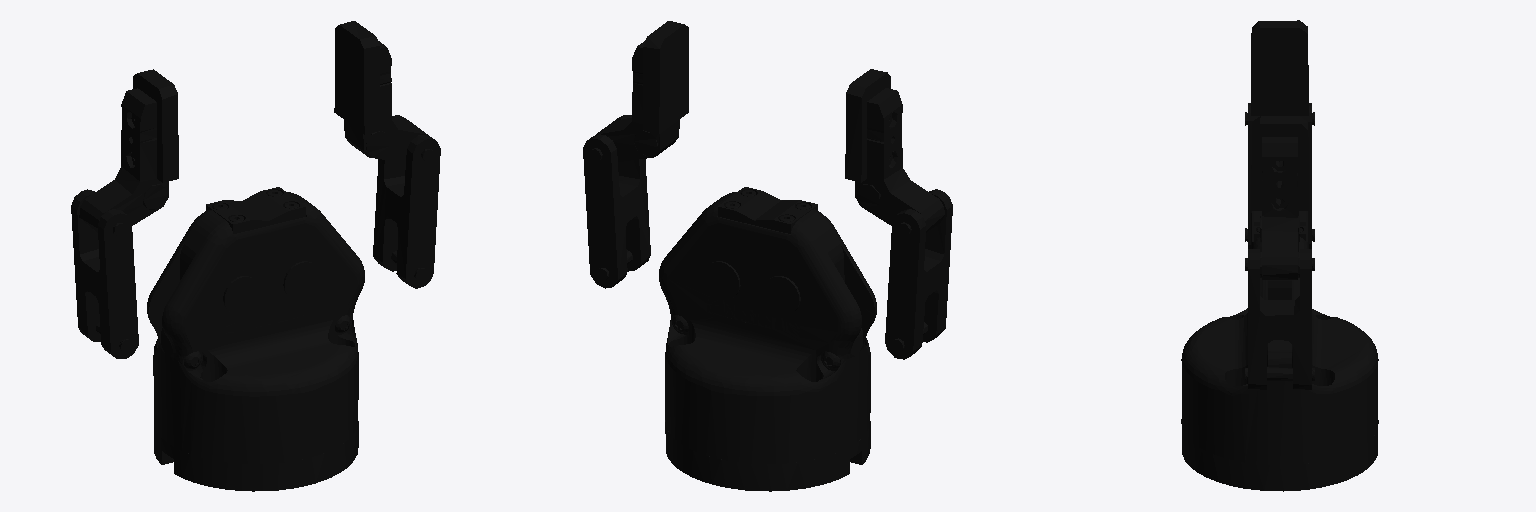
The robot description file, URDF, robot "robotiq_arg85_description":
<robot
  name="robotiq_arg85_description">
  <link
    name="robotiq_85_base_link">
    <inertial>
      <origin
        xyz="0.00021987 -2.3546E-10 0.030163"
        rpy="0 0 0" />
      <mass
        value="0.30915" />
      <inertia
        ixx="0.00028972"
        ixy="-5.7879E-10"
        ixz="-1.8543E-06"
        iyy="0.00030737"
        iyz="1.682E-12"
        izz="0.00019914" />
    </inertial>
    <visual>
      <origin
        xyz="0 0 0"
        rpy="0 0 0" />
      <geometry>
        <mesh
          filename="package://robotiq/robotiq_85_base_link_fine.stl" />
      </geometry>
      <material
        name="">
        <color
          rgba="0.1 0.1 0.1 1" />
      </material>
    </visual>
    <collision>
      <origin
        xyz="0 0 0.0475"
        rpy="0 0 0" />
      <geometry>
        <!-- <mesh
          filename="package://robotiq/robotiq_85_base_link_coarse.stl" /> -->
        <box size="0.07 0.07 0.09"/>
        <!-- <cylinder radius="0.04" length="0.095"/> -->
      </geometry>
    </collision>
  </link>
  <link
    name="left_outer_knuckle">
    <inertial>
      <origin
        xyz="0.0178331863169983 3.68915177224286E-11 0.0021442477325704"
        rpy="0 0 0" />
      <mass
        value="0.00684838849434396" />
      <inertia
        ixx="2.66832029033166E-07"
        ixy="1.66142314639824E-15"
        ixz="1.45945633322873E-07"
        iyy="1.3889233257419E-06"
        iyz="2.82951161241588E-15"
        izz="1.26603336914415E-06" />
    </inertial>
    <visual>
      <origin
        xyz="0 0 0"
        rpy="0 0 0" />
      <geometry>
        <mesh
          filename="package://robotiq/outer_knuckle_fine.stl" />
      </geometry>
      <material
        name="">
        <color
          rgba="0.1 0.1 0.1 1" />
      </material>
    </visual>
    <!-- <collision>
      <origin
        xyz="0 0 0"
        rpy="0 0 0" />
      <geometry>
        <mesh
          filename="package://robotiq/outer_knuckle_coarse.stl" />
      </geometry>
    </collision> -->
  </link>
  <joint
    name="finger_joint"
    type="revolute">
    <origin
      xyz="0.0306011444260539 0 0.0627920162695395"
      rpy="0 0 0" />
    <parent
      link="robotiq_85_base_link" />
    <child
      link="left_outer_knuckle" />
    <axis
      xyz="0 -1 0" />
    <limit
	  lower="0"
      upper="0.725"
      velocity="2.0"
      effort="1000" />
  </joint>
  <link
    name="left_outer_finger">
    <inertial>
      <origin
        xyz="0.00131451599174296 2.88942057994543E-15 0.0215404163180413"
        rpy="0 0 0" />
      <mass
        value="0.0273093985570947" />
      <inertia
        ixx="8.51629628283022E-06"
        ixy="2.58174336207405E-19"
        ixz="3.83829504344079E-07"
        iyy="6.9133328065108E-06"
        iyz="-7.58589926143789E-19"
        izz="2.25006832221981E-06" />
    </inertial>
    <visual>
      <origin
        xyz="0 0 0"
        rpy="0 0 0" />
      <geometry>
        <mesh
          filename="package://robotiq/outer_finger_fine.stl" />
      </geometry>
      <material
        name="">
        <color
          rgba="0.1 0.1 0.1 1" />
      </material>
    </visual>
    <collision>
      <origin
        xyz="0 0 0.025"
        rpy="0 0 0" />
      <geometry>
        <!-- <mesh
          filename="package://robotiq/outer_finger_coarse.stl" /> -->
          <box size="0.01 0.03 0.06"/>
      </geometry>
    </collision>
  </link>
  <joint
    name="left_outer_finger_joint"
    type="fixed">
    <origin
      xyz="0.0316910442266543 0 -0.00193396375724605"
      rpy="0 0 0" />
    <parent
      link="left_outer_knuckle" />
    <child
      link="left_outer_finger" />
    <axis
      xyz="0 -1 0" />
  </joint>
  <link
    name="left_inner_knuckle">
    <inertial>
      <origin
        xyz="0.017097546626628 -3.93808524389535E-10 0.0224918438201868"
        rpy="0 0 0" />
      <mass
        value="0.0110930853895903" />
      <inertia
        ixx="4.23392770691541E-06"
        ixy="5.748978936968E-15"
        ixz="1.78855677119788E-06"
        iyy="3.96548790524392E-06"
        iyz="1.05464666369669E-14"
        izz="3.24068002883007E-06" />
    </inertial>
    <visual>
      <origin
        xyz="0 0 0"
        rpy="0 0 0" />
      <geometry>
        <mesh
          filename="package://robotiq/inner_knuckle_fine.stl" />
      </geometry>
      <material
        name="">
        <color
          rgba="0.1 0.1 0.1 1" />
      </material>
    </visual>
    <!-- <collision>
      <origin
        xyz="0 0 0"
        rpy="0 0 0" />
      <geometry>
        <mesh
          filename="package://robotiq/inner_knuckle_coarse.stl" />
      </geometry>
    </collision> -->
  </link>
  <joint
    name="left_inner_knuckle_joint"
    type="revolute">
    <origin
      xyz="0.0127000000001501 0 0.0693074999999639"
      rpy="0 0 0" />
    <parent
      link="robotiq_85_base_link" />
    <child
      link="left_inner_knuckle" />
    <axis
      xyz="0 -1 0" />
    <limit
      lower="0"
      upper="0.8757"
      velocity="2.0"
      effort="1000" />
    <mimic
      joint="finger_joint"
      multiplier="1"
      offset="0" />
  </joint>
  <link
    name="left_inner_finger">
    <inertial>
      <origin
        xyz="0.0060275613594574 -6.29183141465421E-15 0.00669925693133241"
        rpy="0 0 0" />
      <mass
        value="0.00724255346165745" />
      <inertia
        ixx="1.47824274053603E-06"
        ixy="-3.94884463570303E-19"
        ixz="-3.45268847648622E-07"
        iyy="1.70064480838395E-06"
        iyz="3.5059838910097E-19"
        izz="4.77151336838364E-07" />
    </inertial>
    <visual>
      <origin
        xyz="0 0 0"
        rpy="0 0 0" />
      <geometry>
        <mesh
          filename="package://robotiq/inner_finger_fine.stl" />
      </geometry>
      <material
        name="">
        <color
          rgba="0.1 0.1 0.1 1" />
      </material>
    </visual>
    <collision>
      <origin
        xyz="0 0 0.02"
        rpy="0 0 0" />
      <geometry>
        <!-- <mesh
          filename="package://robotiq/inner_finger_coarse.stl" /> -->
          <box size="0.015 0.03 0.05"/>
      </geometry>
    </collision>
  </link>
  <joint
    name="left_inner_finger_joint"
    type="revolute">
    <origin
      xyz="0.034585310861294 0 0.0454970193817975"
      rpy="0 0 0" />
    <parent
      link="left_inner_knuckle" />
    <child
      link="left_inner_finger" />
    <axis
      xyz="0 -1 0" />
    <limit
      lower="0"
      upper="0.8757"
      velocity="2.0"
      effort="1000" />
    <mimic
      joint="finger_joint"
      multiplier="-1"
      offset="0" />
  </joint>
  <link
    name="right_inner_knuckle">
    <inertial>
      <origin
        xyz="0.0168606186773776 3.93808471820465E-10 0.0226699950793434"
        rpy="0 0 0" />
      <mass
        value="0.0110930853895903" />
      <inertia
        ixx="4.27134775939882E-06"
        ixy="-8.53568456728898E-15"
        ixz="1.77774229944246E-06"
        iyy="3.96548790524392E-06"
        iyz="-8.45108024914164E-15"
        izz="3.20325997634666E-06" />
    </inertial>
    <visual>
      <origin
        xyz="0 0 0"
        rpy="0 0 0" />
      <geometry>
        <mesh
          filename="package://robotiq/inner_knuckle_fine.stl" />
      </geometry>
      <material
        name="">
        <color
          rgba="0.1 0.1 0.1 1" />
      </material>
    </visual>
    <!-- <collision>
      <origin
        xyz="0 0 0"
        rpy="0 0 0" />
      <geometry>
        <mesh
          filename="package://robotiq/inner_knuckle_coarse.stl" />
      </geometry>
    </collision> -->
  </link>
  <joint
    name="right_inner_knuckle_joint"
    type="revolute">
    <origin
      xyz="-0.0126999999998499 0 0.0693075000000361"
      rpy="0 0 3.14159265358979" />
    <parent
      link="robotiq_85_base_link" />
    <child
      link="right_inner_knuckle" />
    <axis
      xyz="0 1 0" />
    <limit
      lower="0"
      upper="0.8757"
      velocity="2.0"
      effort="1000" />
    <mimic
      joint="finger_joint"
      multiplier="-1"
      offset="0" />
  </joint>
  <link
    name="right_inner_finger">
    <inertial>
      <origin
        xyz="0.00602756228812038 -6.47284509480176E-15 0.00669925609578108"
        rpy="0 0 0" />
      <mass
        value="0.00724255346165744" />
      <inertia
        ixx="1.47824283625957E-06"
        ixy="-3.95952064019123E-19"
        ixz="-3.45268708875543E-07"
        iyy="1.70064480838394E-06"
        iyz="3.55286507960029E-19"
        izz="4.77151241114822E-07" />
    </inertial>
    <visual>
      <origin
        xyz="0 0 0"
        rpy="0 0 0" />
      <geometry>
        <mesh
          filename="package://robotiq/inner_finger_fine.stl" />
      </geometry>
      <material
        name="">
        <color
          rgba="0.1 0.1 0.1 1" />
      </material>
    </visual>
    <collision>
      <origin
        xyz="0 0 0.02"
        rpy="0 0 0" />
      <geometry>
        <!-- <mesh
          filename="package://robotiq/inner_finger_coarse.stl" /> -->
          <box size="0.015 0.03 0.05"/>
      </geometry>
    </collision>
  </link>
  <joint
    name="right_inner_finger_joint"
    type="revolute">
    <origin
      xyz="0.0341060475457406 0 0.0458573878541688"
      rpy="0 0 0" />
    <parent
      link="right_inner_knuckle" />
    <child
      link="right_inner_finger" />
    <axis
      xyz="0 1 0" />
    <limit
      lower="0"
      upper="0.8757"
      velocity="2.0"
      effort="1000" />
    <mimic
      joint="finger_joint"
      multiplier="1"
      offset="0" />
  </joint>
  <link
    name="right_outer_knuckle">
    <inertial>
      <origin
        xyz="0.0178097074051638 3.60493211424024E-11 0.00233123458346721"
        rpy="0 0 0" />
      <mass
        value="0.00684838849401352" />
      <inertia
        ixx="2.70004361573169E-07"
        ixy="1.59579467624491E-15"
        ixz="1.56396493788199E-07"
        iyy="1.38892332558312E-06"
        iyz="2.82357800318817E-15"
        izz="1.26286103637978E-06" />
    </inertial>
    <visual>
      <origin
        xyz="0 0 0"
        rpy="0 0 0" />
      <geometry>
        <mesh
          filename="package://robotiq/outer_knuckle_fine.stl" />
      </geometry>
      <material
        name="">
        <color
          rgba="0.1 0.1 0.1 1" />
      </material>
    </visual>
    <!-- <collision>
      <origin
        xyz="0 0 0"
        rpy="0 0 0" />
      <geometry>
        <mesh
          filename="package://robotiq/outer_knuckle_coarse.stl" />
      </geometry>
    </collision> -->
  </link>
  <joint
    name="right_outer_knuckle_joint"
    type="revolute">
    <origin
      xyz="-0.0306011444258893 0 0.0627920162695395"
      rpy="0 0 3.14159265358979" />
    <parent
      link="robotiq_85_base_link" />
    <child
      link="right_outer_knuckle" />
    <axis
      xyz="0 1 0" />
    <limit
      lower="0"
      upper="0.8757"
      velocity="2.0"
      effort="1000" />
    <mimic
      joint="finger_joint"
      multiplier="-1"
      offset="0" />
  </joint>
  <link
    name="right_outer_finger">
    <inertial>
      <origin
        xyz="0.00108844269639009 -2.611488350845E-15 0.0215530225245502"
        rpy="0 0 0" />
      <mass
        value="0.0273093985570947" />
      <inertia
        ixx="8.52366028592721E-06"
        ixy="3.41683380899422E-19"
        ixz="3.18003675694284E-07"
        iyy="6.91333280651081E-06"
        iyz="7.37726682706417E-19"
        izz="2.24270431912283E-06" />
    </inertial>
    <visual>
      <origin
        xyz="0 0 0"
        rpy="0 0 0" />
      <geometry>
        <mesh
          filename="package://robotiq/outer_finger_fine.stl" />
      </geometry>
      <material
        name="">
        <color
          rgba="0.1 0.1 0.1 1" />
      </material>
    </visual>
    <collision>
      <origin
        xyz="0 0 0.025"
        rpy="0 0 0" />
      <geometry>
        <!-- <mesh
          filename="package://robotiq/outer_finger_coarse.stl" /> -->
          <box size="0.01 0.03 0.06"/>
      </geometry>
    </collision>
  </link>
  <joint
    name="right_outer_finger_joint"
    type="fixed">
    <origin
      xyz="0.0317095909367246 0 -0.0016013564954687"
      rpy="0 0 0" />
    <parent
      link="right_outer_knuckle" />
    <child
      link="right_outer_finger" />
    <axis
      xyz="0 1 0" />
  </joint>
</robot>

--- What the picture shows (computed from the rendered views, not written in the file) ---
3 views of the same robot in one strip: view 1: azimuth 30°, elevation 25°; view 2: azimuth 150°, elevation 25°; view 3: azimuth 270°, elevation 25° (orthographic).
Model robotiq_arg85_description with 9 links and 8 joints (6 revolute, 2 fixed), rooted at robotiq_85_base_link, posed all joints at 0.
Visible links, largest first — view 1: robotiq_85_base_link, right_inner_finger, right_outer_finger, left_outer_finger, left_inner_finger; view 2: robotiq_85_base_link, right_inner_finger, right_outer_finger, left_outer_finger, left_inner_finger; view 3: robotiq_85_base_link, left_inner_finger, left_outer_finger, right_inner_finger, right_outer_finger.
Boxes of the visible links, x1,y1,x2,y2 form: robotiq_85_base_link: (147, 187, 364, 491); right_inner_finger: (79, 69, 178, 232); right_outer_finger: (71, 189, 138, 358); left_outer_finger: (373, 115, 440, 288); left_inner_finger: (334, 21, 428, 162); robotiq_85_base_link: (659, 187, 876, 491); right_inner_finger: (845, 69, 944, 232); right_outer_finger: (885, 189, 952, 359); left_outer_finger: (583, 115, 650, 288); left_inner_finger: (595, 21, 688, 161); robotiq_85_base_link: (1181, 211, 1378, 491); left_inner_finger: (1251, 116, 1308, 279); left_outer_finger: (1245, 249, 1314, 389); right_inner_finger: (1251, 20, 1308, 115); right_outer_finger: (1245, 103, 1314, 248).
Size in the robot's own frame: 0.1425 by 0.0751 by 0.1621 metres.
Meshes: 5 distinct files referenced, 5 mesh visuals loaded (3 binary STL); not drawn: 4 (reference not matched to a file when rendering).